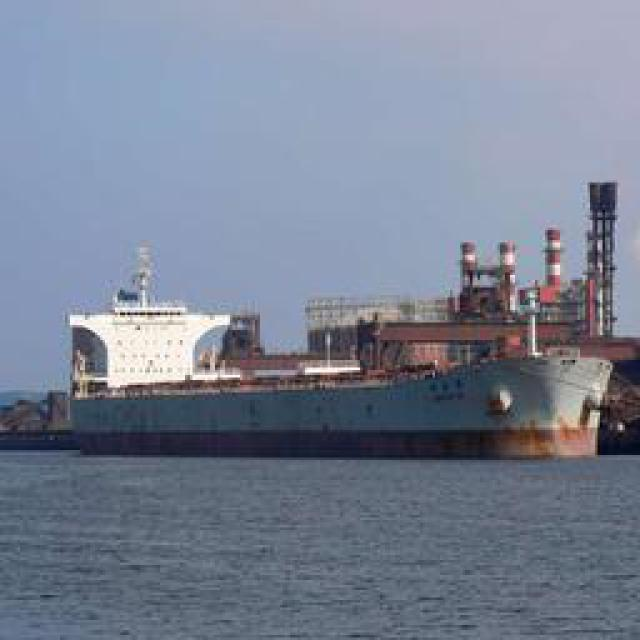Ship: (71, 306, 606, 461)
